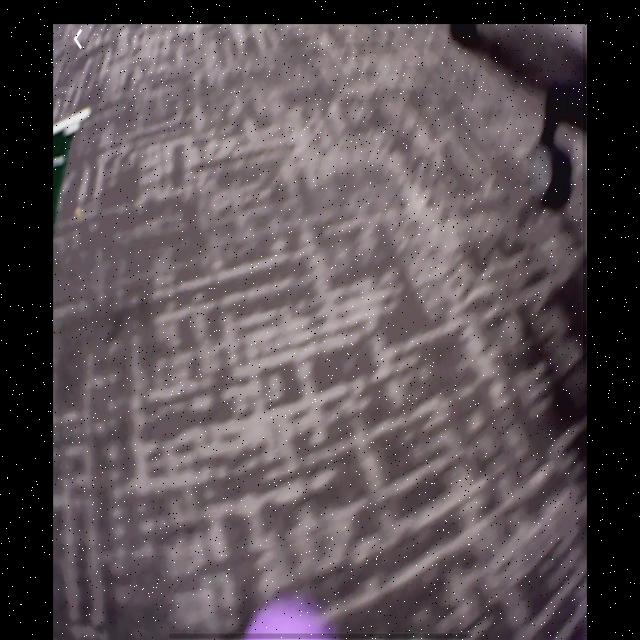ball: (242, 605, 329, 640)
